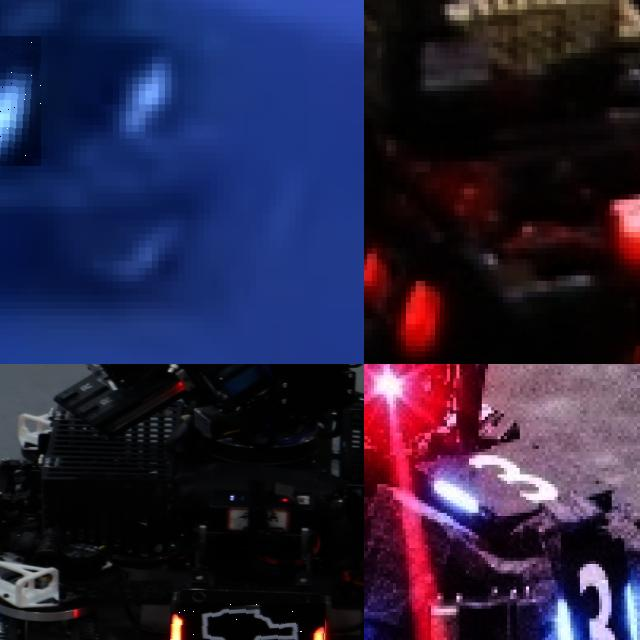B3: (551, 557, 633, 640)
B5: (0, 36, 41, 165)
R2: (364, 231, 440, 340)
Rs: (169, 603, 326, 640)
